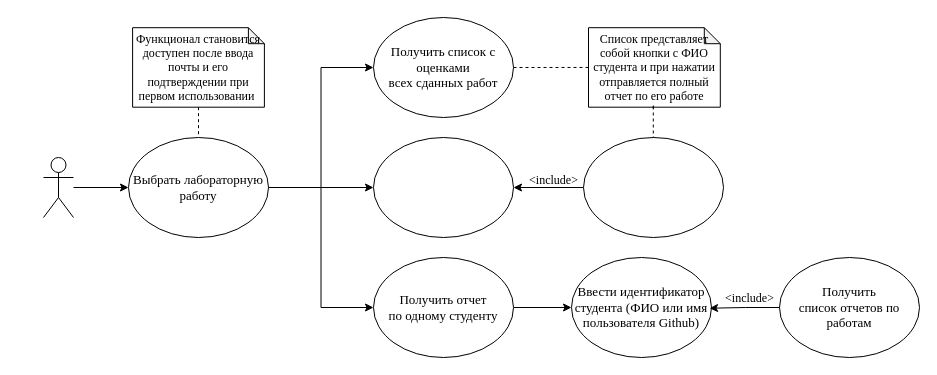
This 937x375 diagram has some shape labels left out. Each missing label, with the centre of its shape:
Выбрать студенческую группу: point 443,187
Получить список оценок студентов выбранной группы: point 653,187
Преподаватель: point 58,187
